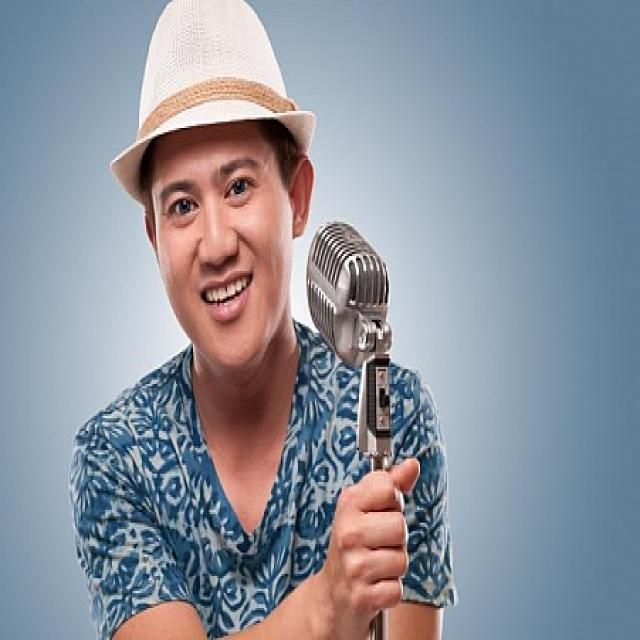Eyes: (161, 162, 267, 238)
